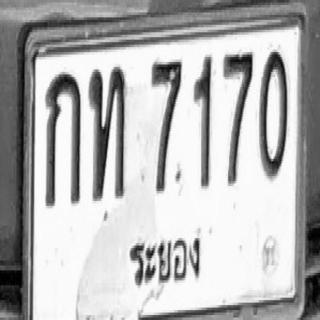A01: (44, 72, 81, 206)
A23: (88, 64, 126, 201)
N00: (258, 50, 288, 178)
N01: (193, 54, 212, 188)
N07: (151, 58, 182, 192), (222, 50, 252, 186)
P52: (45, 14, 130, 158)
P53: (127, 225, 205, 297)
